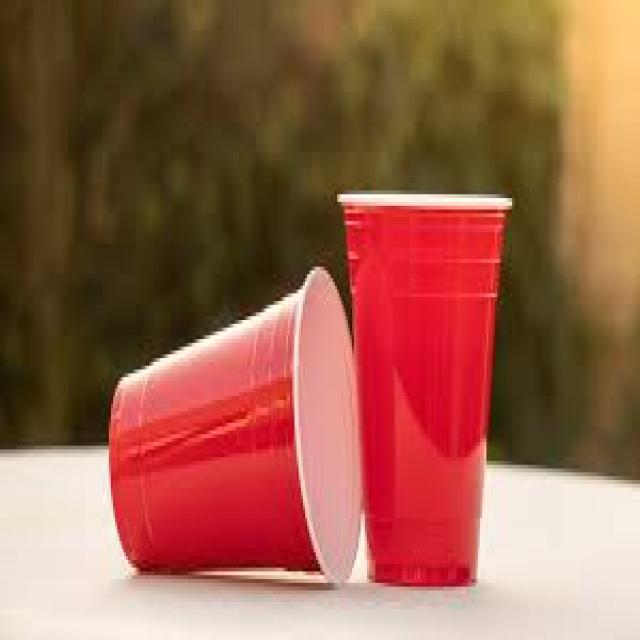plastic: (111, 268, 362, 581), (342, 196, 510, 584)
